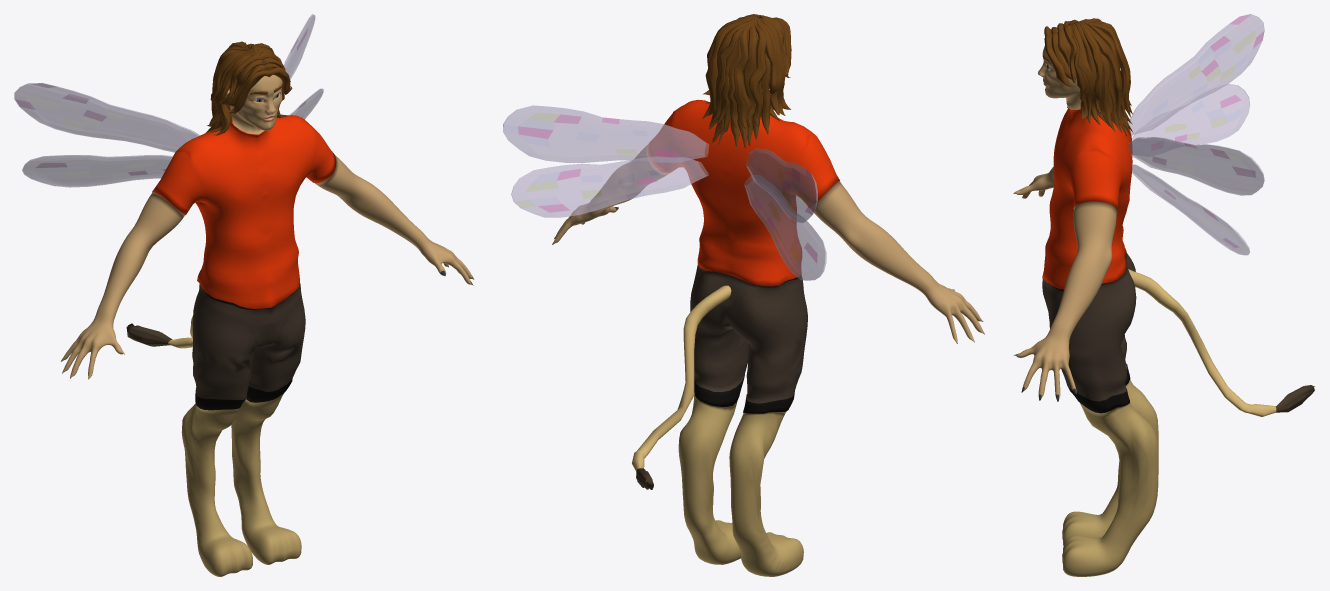
File: try.fbx
3 renders of one model, left to right at view 1: azimuth 30°, elevation 25°; view 2: azimuth 150°, elevation 25°; view 3: azimuth 270°, elevation 25°, orthographic. The views are drawn at different scales.
Visible parts, largest first — view 1: Timry Body.001, wings, tail; view 2: Timry Body.001, wings, tail; view 3: Timry Body.001, wings, tail.
Boxes of the visible parts, x1,y1,x2,y2 form: Timry Body.001: (60, 41, 474, 576); wings: (14, 14, 323, 187); tail: (126, 316, 192, 348); Timry Body.001: (552, 14, 984, 576); wings: (503, 105, 826, 280); tail: (632, 285, 731, 489); Timry Body.001: (1013, 18, 1158, 576); wings: (1128, 14, 1264, 255); tail: (1128, 269, 1314, 416).
Size of the model in its own units: 14606 by 17890 by 9136.
